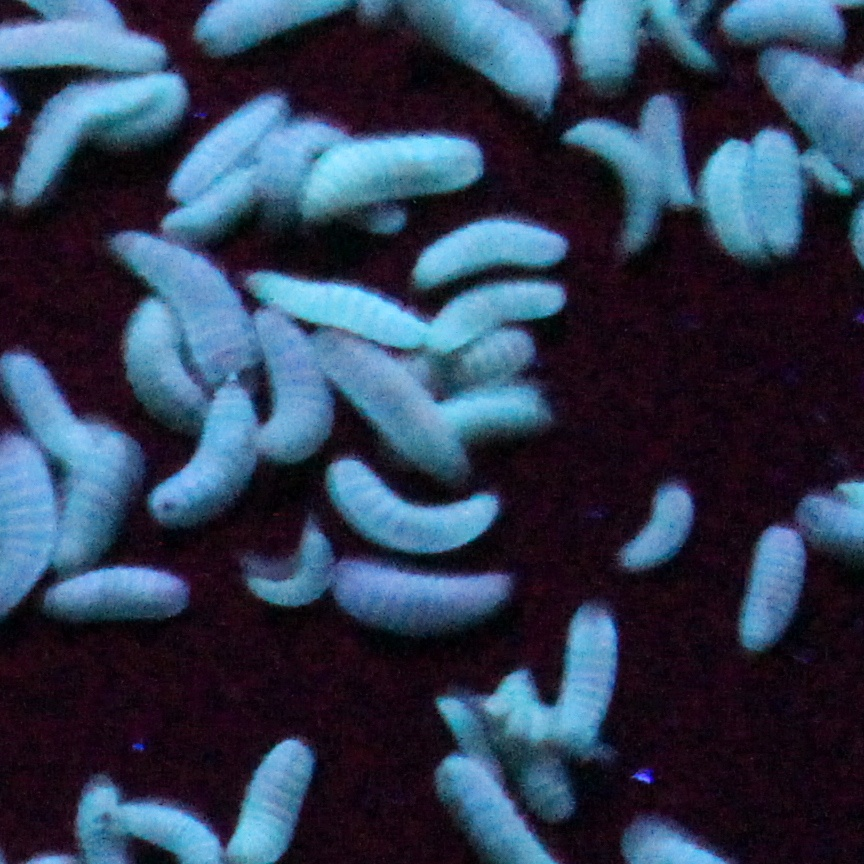larve: (323, 333, 473, 483), (112, 228, 250, 381), (21, 69, 171, 201), (325, 458, 505, 560), (296, 126, 489, 215), (134, 385, 259, 515), (257, 276, 437, 353), (255, 315, 334, 469), (339, 553, 512, 622), (578, 119, 666, 251), (421, 217, 580, 290), (166, 101, 284, 199), (128, 290, 209, 431), (5, 349, 100, 467), (741, 510, 809, 658), (428, 285, 562, 360), (553, 599, 614, 753), (46, 560, 189, 624), (50, 438, 125, 556), (630, 85, 700, 210), (257, 108, 353, 197), (246, 524, 337, 608), (618, 476, 703, 565), (753, 133, 814, 256), (171, 165, 266, 235), (700, 133, 750, 260), (455, 326, 534, 381), (803, 151, 859, 199), (441, 392, 564, 413)
